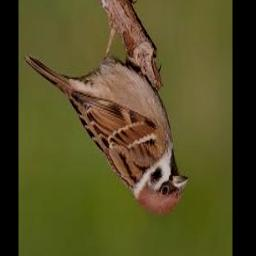Sparrow: (25, 29, 190, 213)
